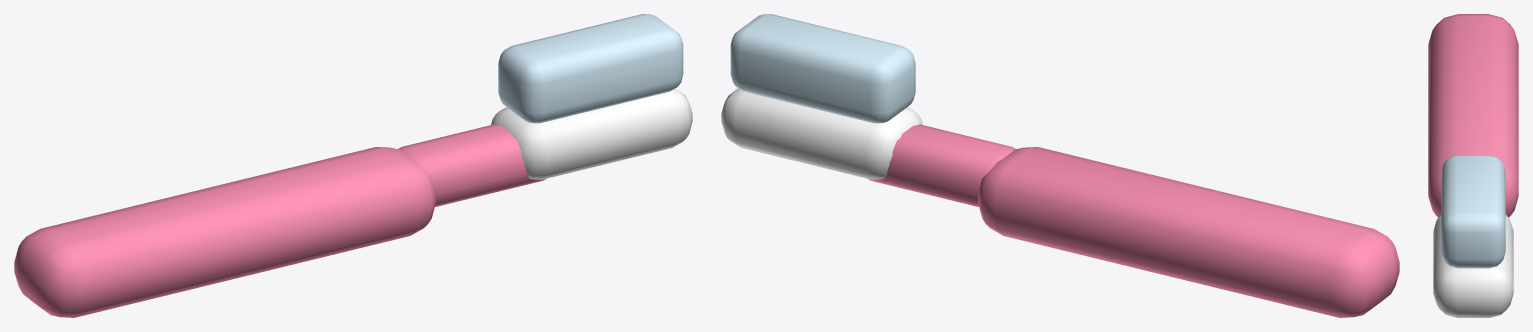
File: toothbrush.glb
The picture shows the model from 3 angles, left to right: view 1: azimuth 30°, elevation 25°; view 2: azimuth 150°, elevation 25°; view 3: azimuth 270°, elevation 25°; orthographic projection. The views are drawn at different scales.
Parts seen in each view (by area): view 1: Toothbrush; view 2: Toothbrush; view 3: Toothbrush.
Boxes of the visible parts, bbox=[...] form: Toothbrush: bbox=[14, 14, 692, 317]; Toothbrush: bbox=[721, 14, 1399, 317]; Toothbrush: bbox=[1428, 14, 1518, 317].
Size of the model in its own units: 0.33 by 0.0685 by 0.045.
